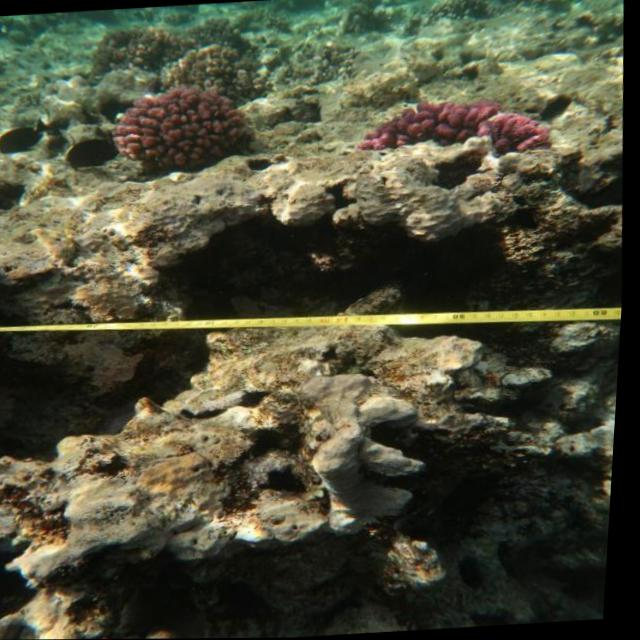Healthy Coral: (99, 78, 257, 183), (346, 85, 553, 159)
